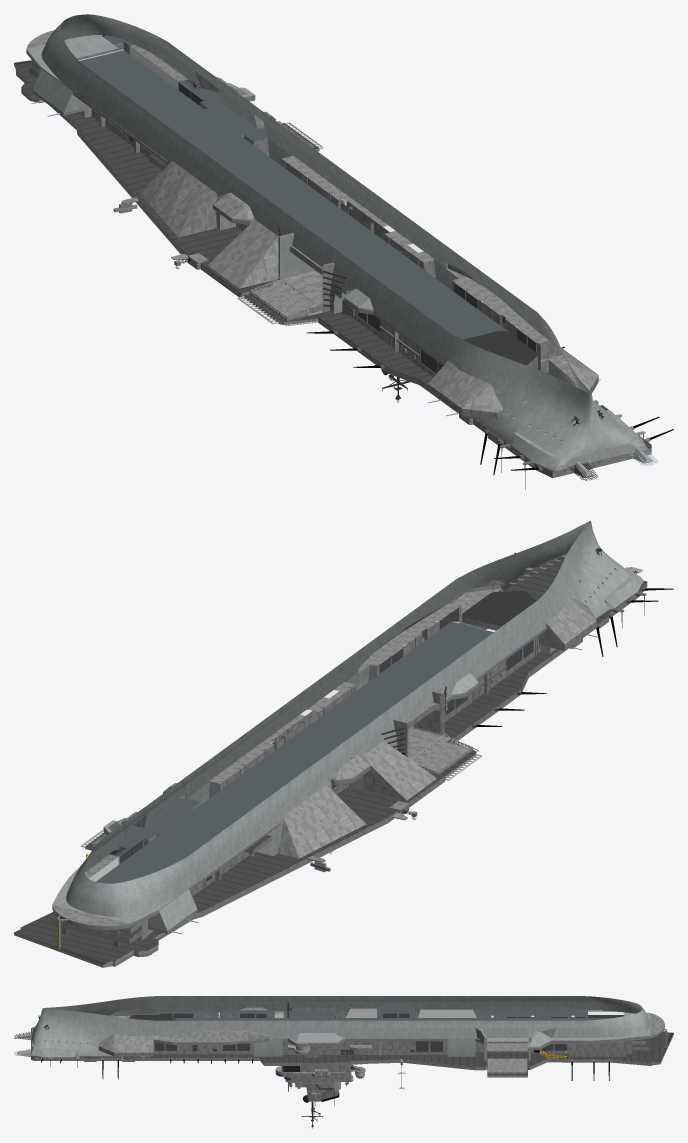
The model's file is p7qr281h3jeo-Essex_Class_CV_SCB125_OBJ.glb.
3 renders of one model, top to bottom at view 1: azimuth 30°, elevation 25°; view 2: azimuth 150°, elevation 25°; view 3: azimuth 270°, elevation 25°, orthographic. The views are drawn at different scales.
Parts seen in each view (by area): view 1: Node26, Node11, Node15, Node28, Node12, Node6, Node35, Node10, Node4, Node8; view 2: Node26, Node11, Node15, Node28, Node12, Node6, Node35, Node4; view 3: Node26, Node11, Node28, Node15, Node12, Node35, Node8, Node14, Node10, Node6, Node4.
Boxes of the visible parts, x1,y1,x2,y2 form: Node26: (14, 14, 652, 477); Node11: (26, 30, 651, 477); Node15: (79, 35, 508, 339); Node28: (16, 62, 651, 472); Node12: (16, 50, 651, 478); Node6: (14, 60, 604, 425); Node35: (92, 83, 535, 373); Node10: (179, 258, 673, 489); Node4: (109, 121, 542, 470); Node8: (79, 46, 517, 402); Node26: (14, 521, 643, 967); Node11: (51, 550, 647, 941); Node15: (84, 621, 493, 883); Node28: (14, 561, 646, 962); Node12: (51, 584, 647, 966); Node6: (20, 548, 602, 964); Node35: (120, 607, 533, 863); Node4: (190, 587, 646, 890); Node26: (17, 996, 673, 1090); Node11: (31, 1002, 664, 1101); Node28: (31, 1028, 670, 1075); Node15: (153, 1005, 612, 1020); Node12: (31, 1026, 664, 1070); Node35: (155, 1013, 586, 1051); Node8: (218, 1008, 624, 1128); Node14: (14, 1028, 666, 1055); Node10: (14, 1015, 609, 1114); Node6: (43, 1005, 673, 1126); Node4: (155, 1013, 547, 1104).
Bounding box in the file's own units: 113 × 87.4 × 478.
45 materials, 45 textured.
